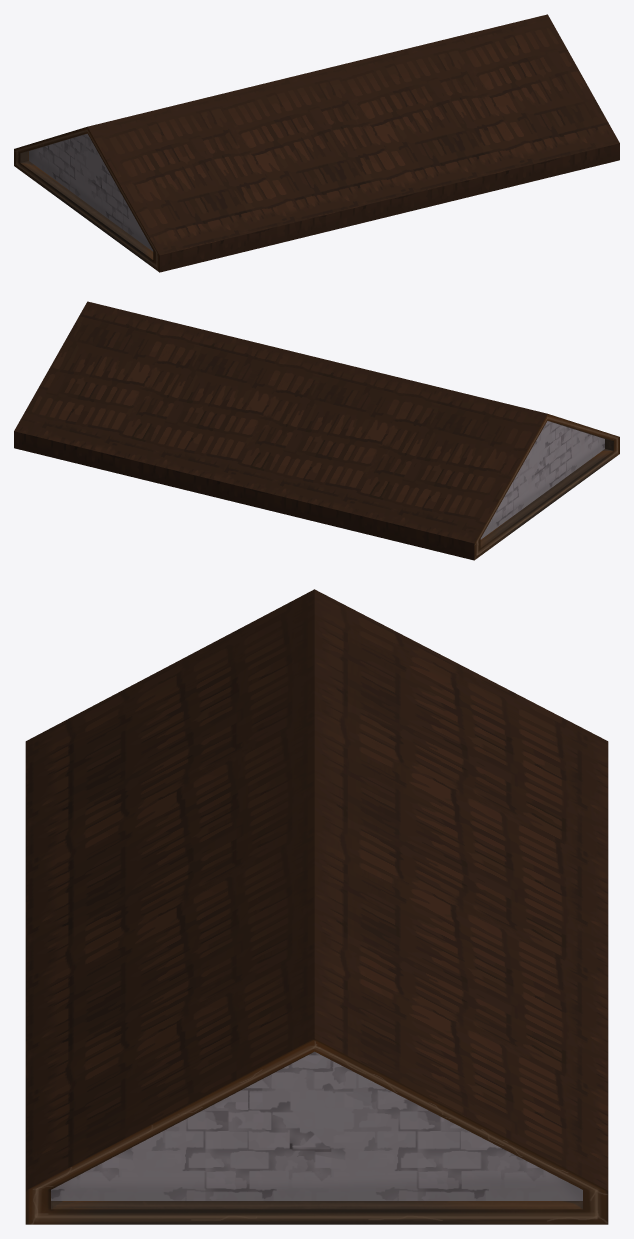
The model's file is City Modular Brick Roof 2.fbx.
The picture shows the model from 3 angles, top to bottom: view 1: azimuth 30°, elevation 25°; view 2: azimuth 150°, elevation 25°; view 3: azimuth 270°, elevation 25°; orthographic projection. The views are drawn at different scales.
Parts seen in each view (by area): view 1: Cube.011; view 2: Cube.011; view 3: Cube.011.
Part boxes in pixels (x1,y1,x2,y2): Cube.011: (14, 14, 619, 272); Cube.011: (14, 301, 619, 560); Cube.011: (25, 589, 608, 1224).
Size of the model in its own units: 1254 by 242 by 687.
